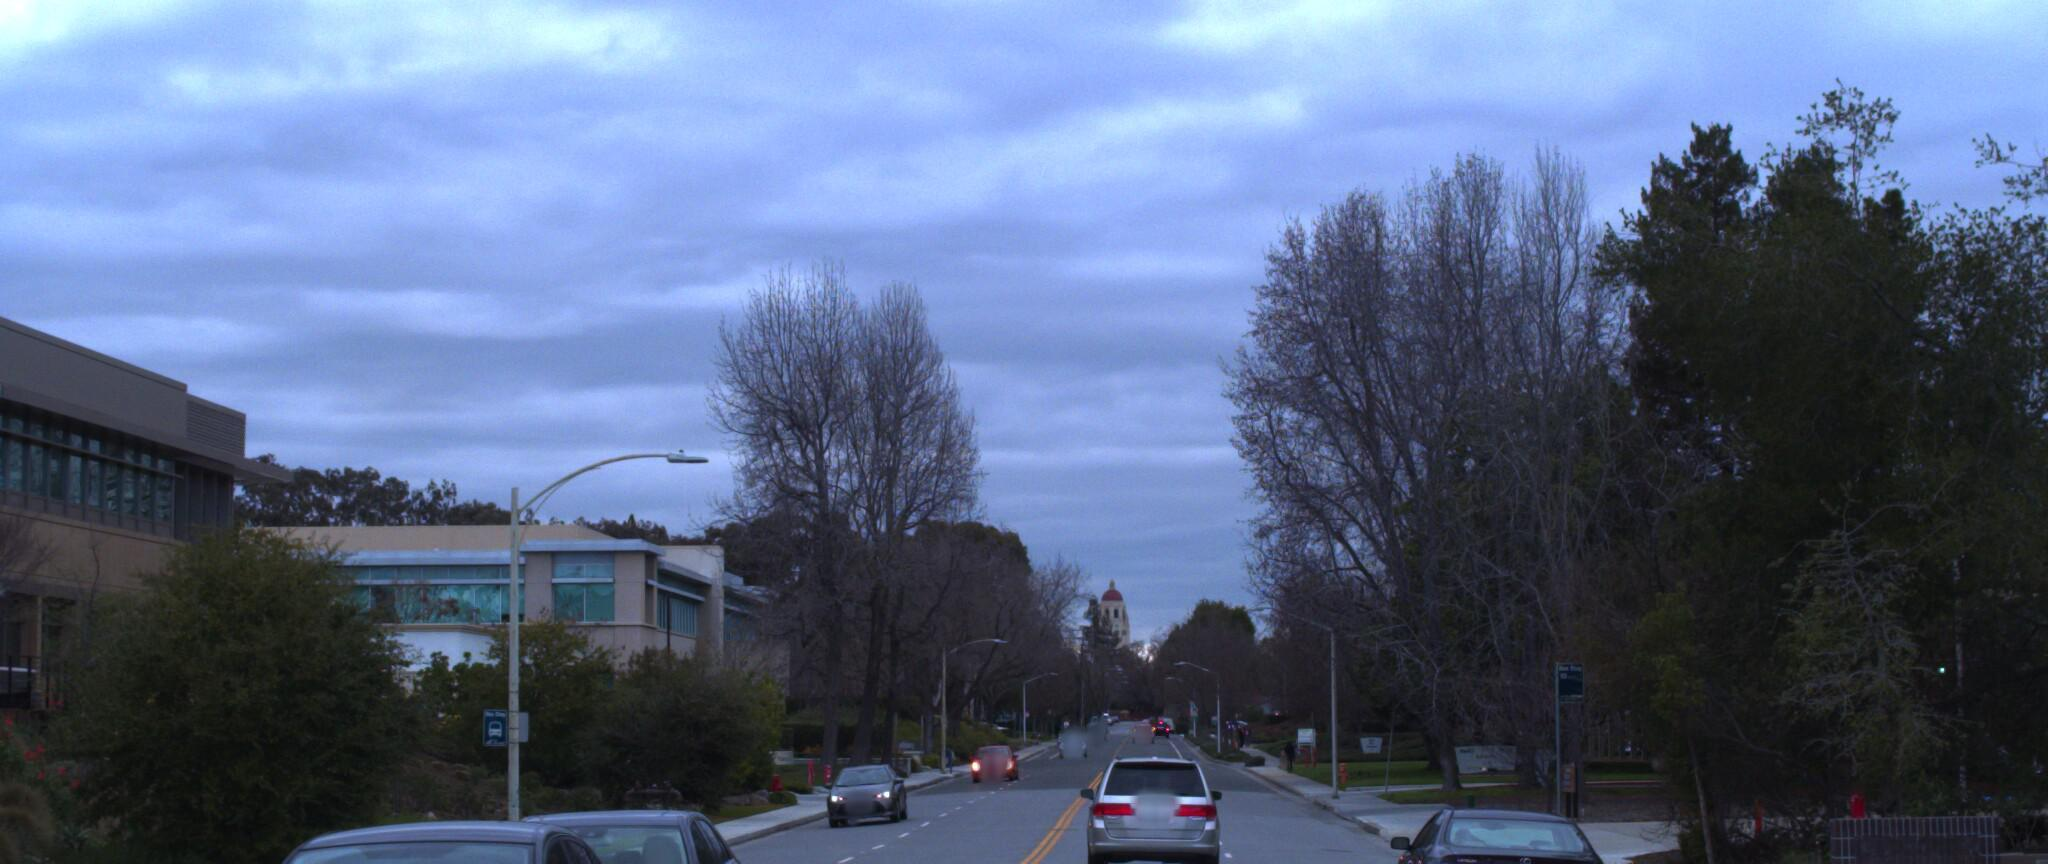car: (114, 805, 670, 864), (0, 747, 195, 864), (426, 799, 776, 864), (1368, 786, 1613, 864), (1068, 744, 1215, 864)
